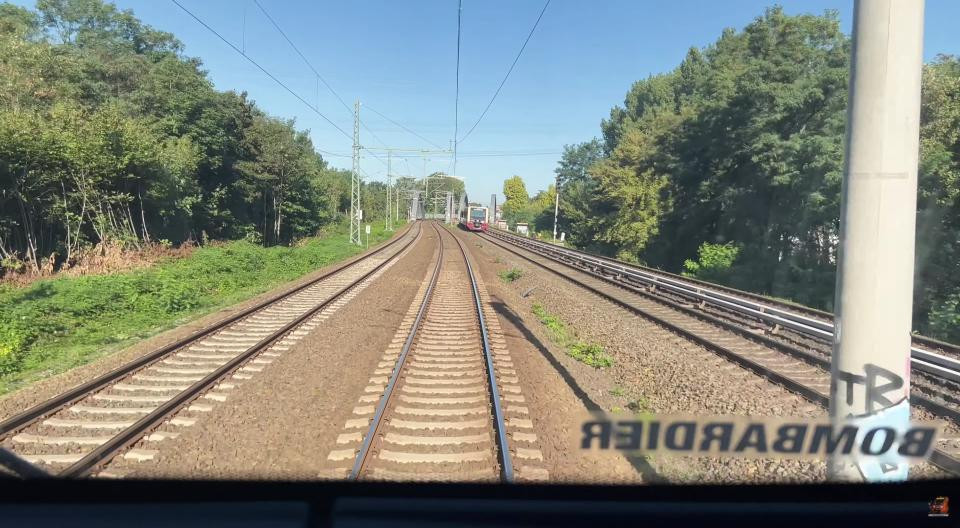Plant: (566, 341, 614, 368), (533, 302, 566, 339), (500, 268, 522, 282), (628, 399, 649, 412), (610, 387, 626, 396), (612, 407, 622, 413), (494, 257, 500, 263), (475, 243, 482, 248)
